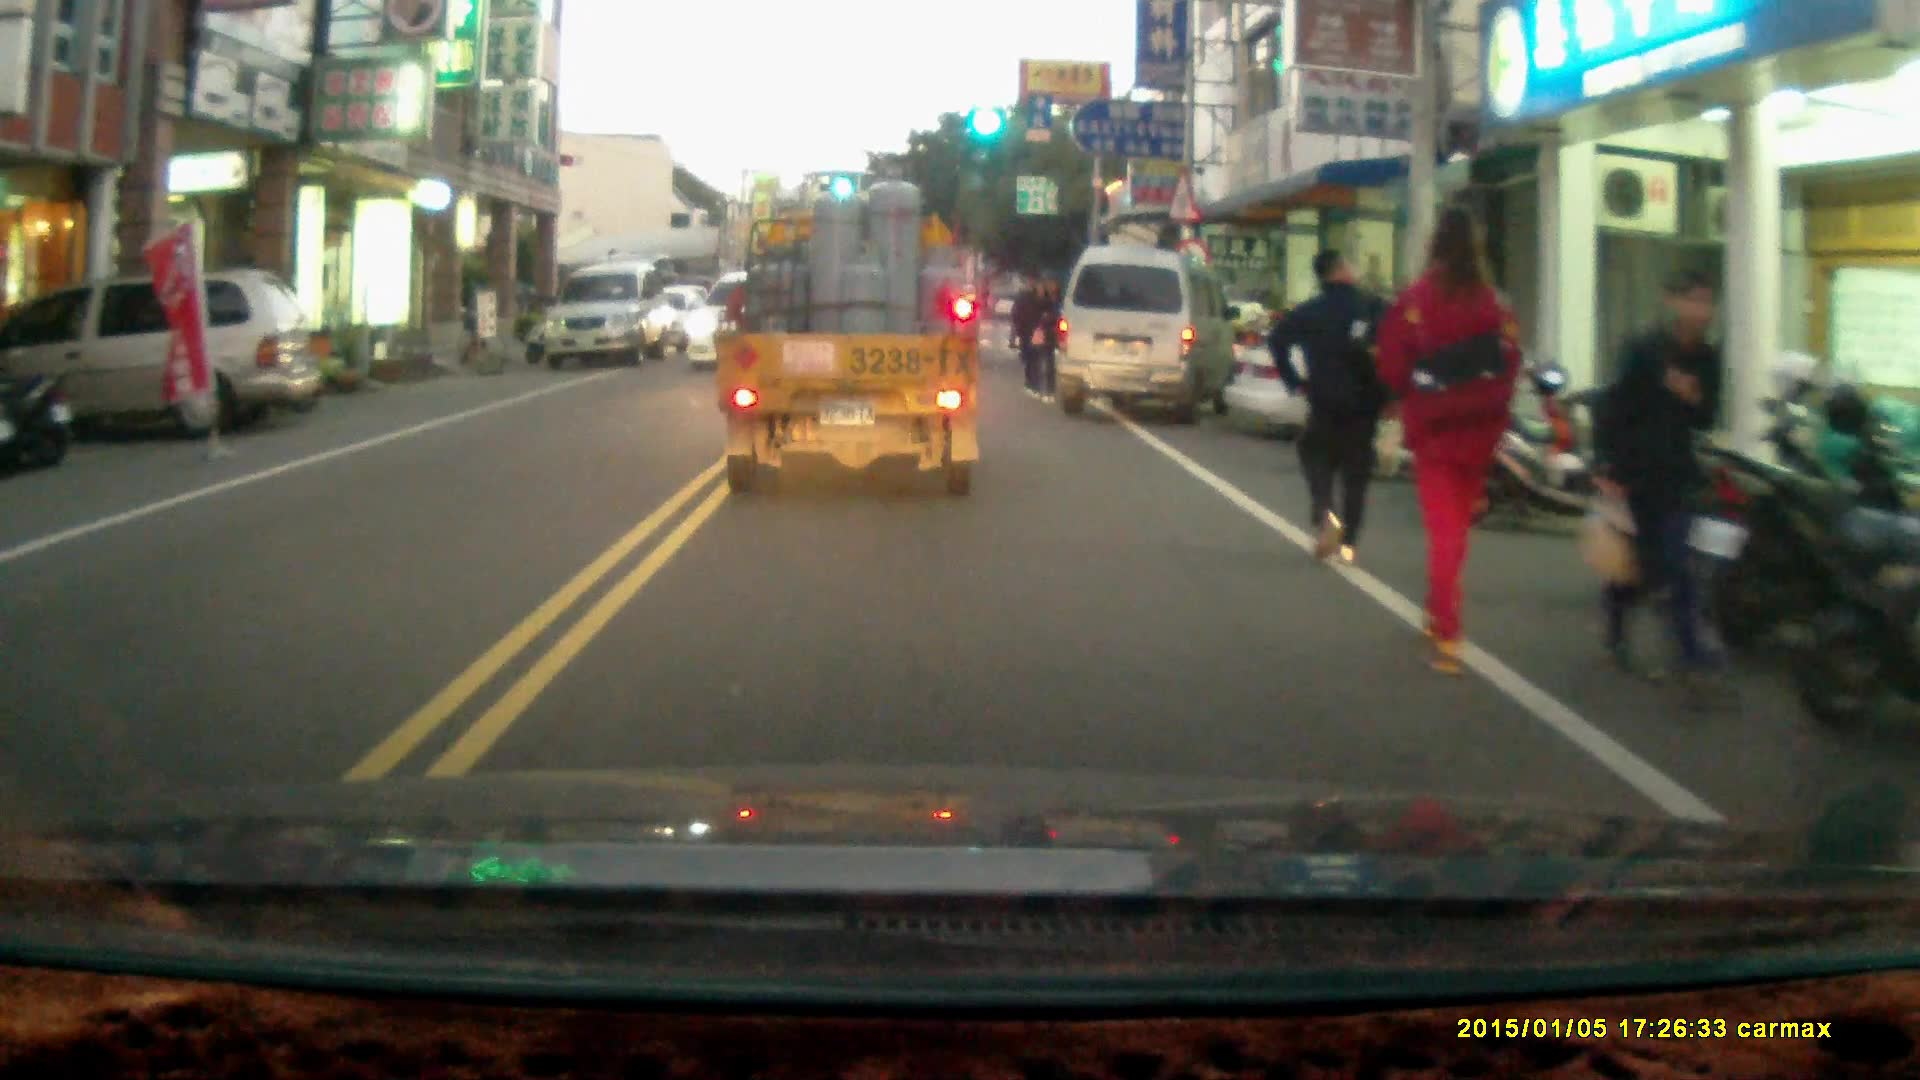pedestrian: (1379, 201, 1523, 670), (1590, 267, 1738, 706), (1269, 247, 1391, 563), (1030, 273, 1066, 402)
vehicle: (718, 169, 991, 508), (2, 268, 326, 446), (1231, 299, 1602, 454), (1059, 238, 1238, 416), (546, 260, 680, 368)
